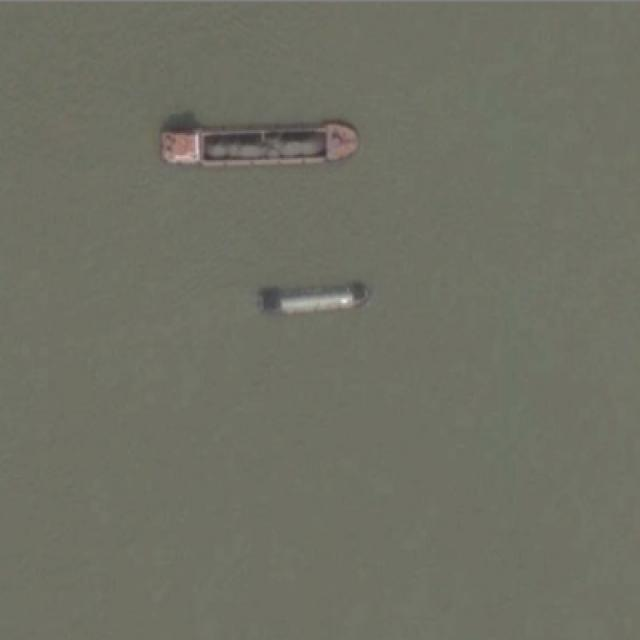boat: (155, 116, 362, 170), (251, 276, 371, 317)
